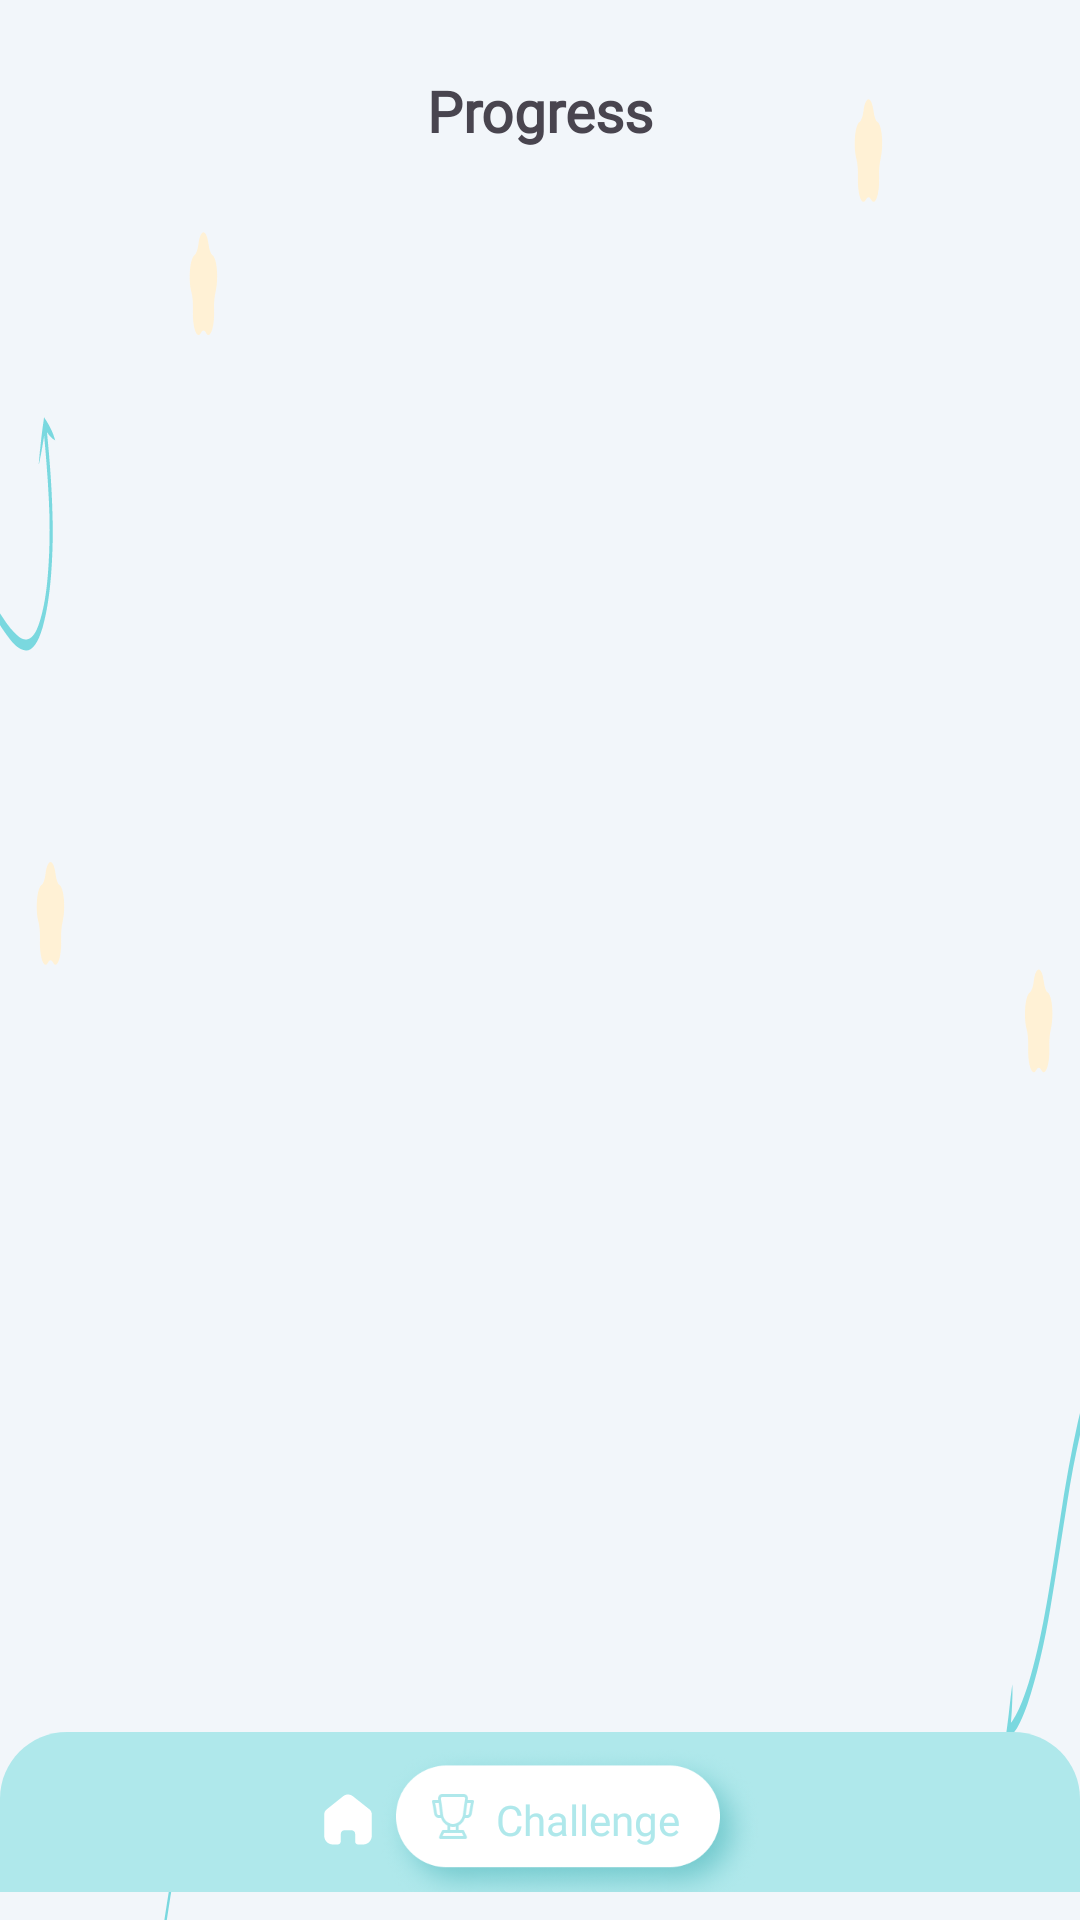

Where to tap for icons on this 1080x1920 app screen, as point (x, y):
home false: point (348, 1819)
